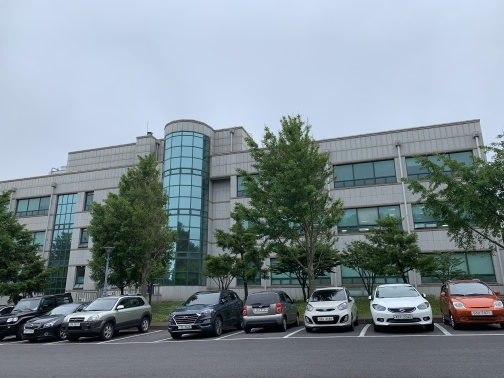Second Library: (1, 115, 502, 292)
